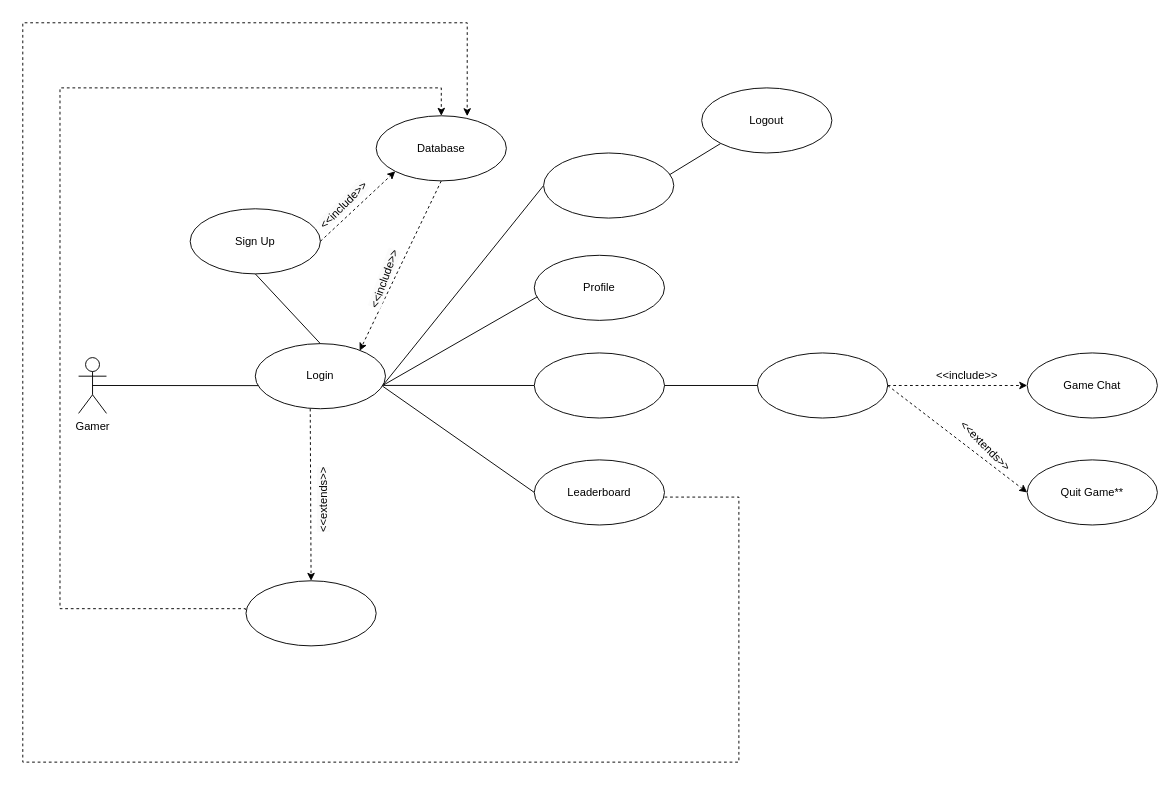
This 1174x786 diagram has some shape labels left out. Here are the shapes that lost their labels. From the top down, the centre of each, then its label:
At pixel 608 185: "Settings".
At pixel 598 385: "Games".
At pixel 822 385: "Play A Game".
At pixel 310 613: "Forgot Password**".
